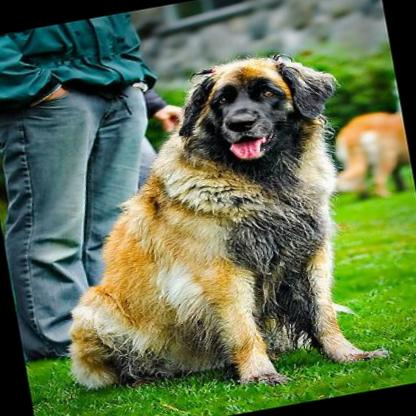Leonberg: (21, 42, 385, 416)
